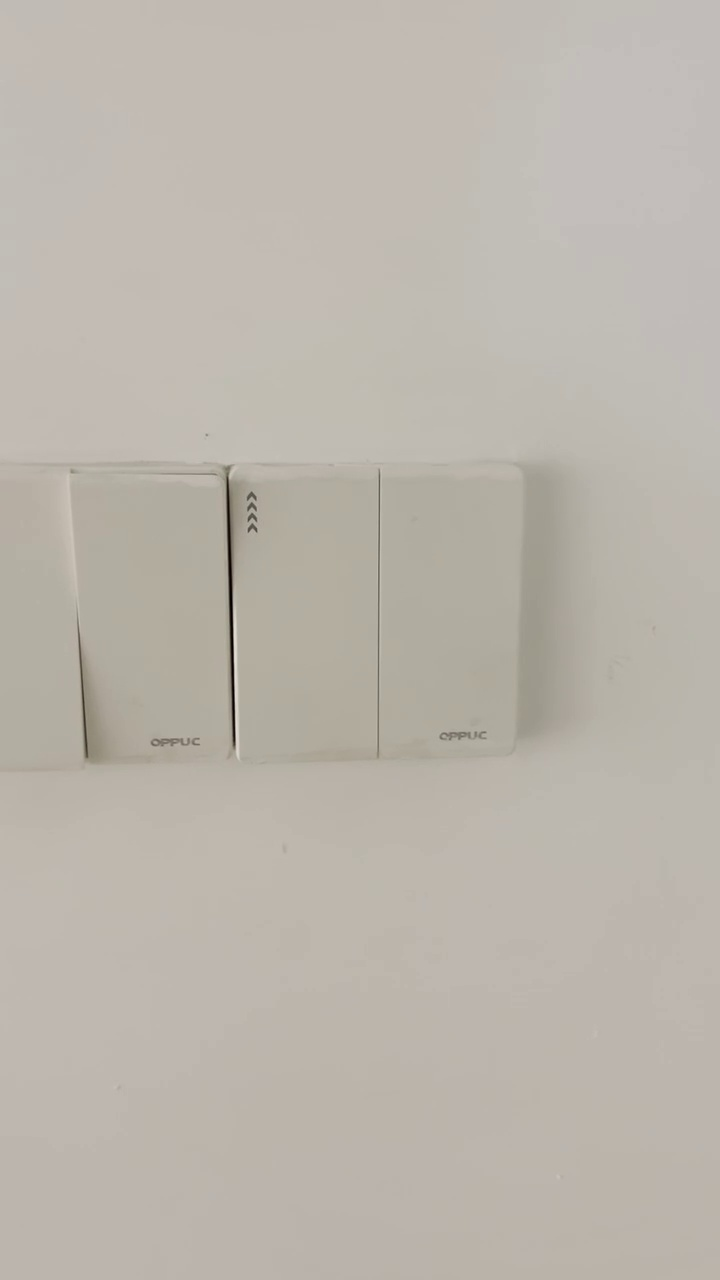button1: (76, 475, 229, 760), (236, 474, 375, 756), (384, 470, 520, 754), (2, 475, 81, 761)
